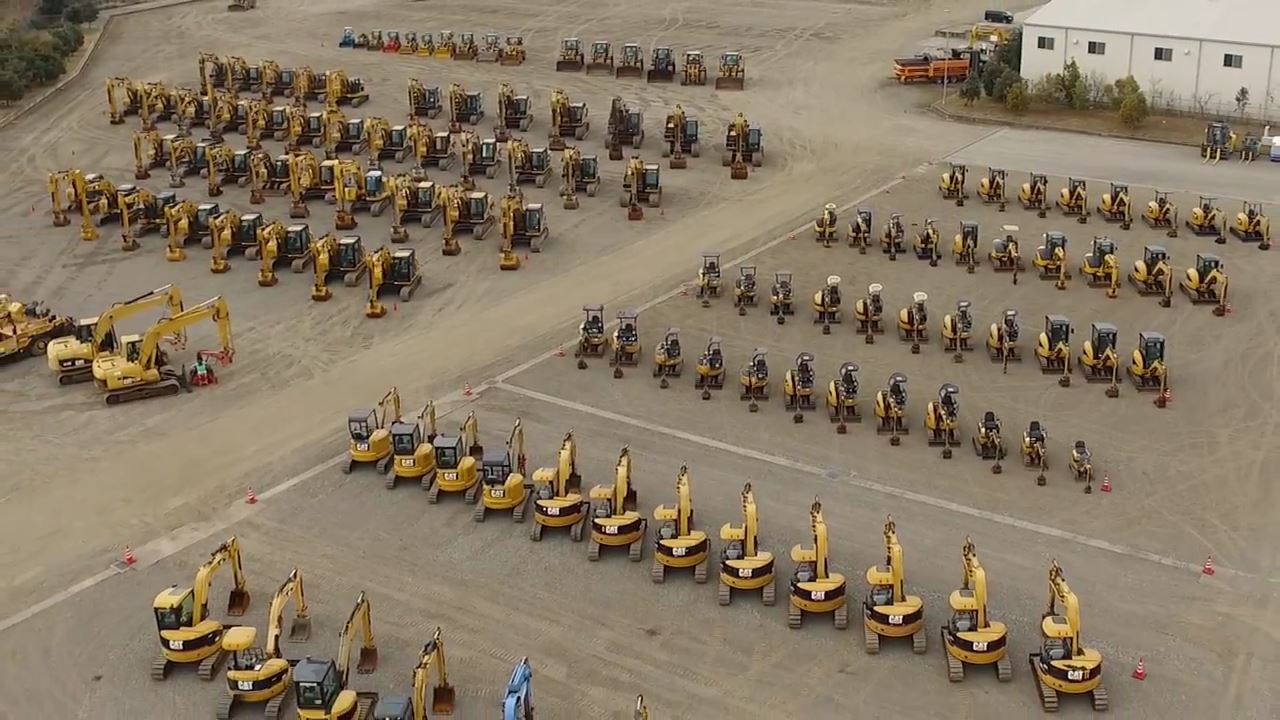con_eq: (123, 519, 242, 690), (90, 292, 254, 399), (40, 276, 183, 383), (1027, 553, 1120, 710), (217, 558, 303, 712), (297, 583, 378, 716), (944, 536, 1016, 685), (711, 476, 781, 610), (864, 513, 927, 655), (644, 459, 714, 584), (372, 611, 456, 714), (781, 500, 847, 629), (577, 444, 648, 561), (526, 432, 588, 538), (341, 370, 399, 477), (468, 422, 525, 520), (7, 289, 75, 363), (877, 44, 980, 92), (385, 393, 434, 493), (331, 160, 387, 239), (299, 227, 363, 296), (498, 191, 551, 273), (439, 177, 491, 260), (428, 412, 475, 502), (255, 223, 313, 289), (363, 249, 421, 314), (389, 179, 443, 247), (362, 114, 423, 172), (555, 146, 607, 212), (921, 378, 962, 461), (504, 137, 557, 201), (617, 154, 670, 215), (159, 197, 209, 261), (209, 204, 257, 270), (1130, 329, 1170, 408), (287, 155, 337, 218), (1079, 320, 1120, 395), (778, 351, 821, 421), (543, 90, 592, 151), (826, 361, 864, 438), (78, 175, 121, 243), (870, 373, 910, 446), (413, 123, 461, 183), (118, 182, 159, 251), (459, 130, 510, 185), (604, 99, 648, 162), (665, 108, 710, 169), (722, 119, 765, 180), (322, 104, 369, 159), (984, 218, 1025, 281), (156, 133, 201, 189), (206, 140, 248, 198), (491, 82, 532, 141), (690, 340, 729, 402), (736, 346, 771, 415), (1037, 314, 1072, 383), (612, 303, 642, 382), (251, 148, 291, 207), (447, 71, 484, 134), (971, 409, 1007, 473), (1125, 249, 1168, 302), (41, 161, 76, 226), (573, 304, 610, 365), (940, 297, 974, 360), (650, 329, 685, 390), (134, 75, 175, 127), (323, 65, 364, 117), (686, 255, 724, 311), (216, 53, 261, 100), (1146, 176, 1179, 240), (131, 124, 163, 189), (896, 291, 933, 347), (254, 57, 295, 107), (1020, 422, 1052, 485), (288, 102, 329, 151), (1081, 240, 1118, 293), (1180, 261, 1217, 314), (729, 262, 764, 318), (249, 100, 289, 149), (811, 274, 843, 334), (209, 93, 248, 142), (853, 282, 883, 345), (500, 656, 533, 713), (101, 69, 135, 124), (708, 48, 751, 90), (582, 26, 616, 78), (1056, 177, 1091, 226), (988, 307, 1016, 368), (1097, 181, 1130, 232), (812, 198, 841, 256), (193, 48, 227, 97), (1036, 230, 1069, 280), (1066, 440, 1094, 497), (979, 165, 1014, 210), (912, 215, 939, 272), (176, 86, 210, 131), (405, 77, 441, 119), (291, 62, 324, 107), (499, 29, 534, 71), (848, 201, 876, 253), (1187, 192, 1216, 242), (644, 48, 677, 91), (954, 222, 979, 278), (555, 36, 584, 81), (770, 272, 796, 322), (616, 38, 642, 88), (1020, 174, 1048, 216), (1197, 122, 1222, 168), (880, 211, 904, 258), (937, 167, 967, 203), (677, 49, 703, 89), (456, 30, 479, 66), (384, 25, 407, 56), (479, 33, 499, 65), (338, 25, 360, 52), (435, 32, 457, 58), (402, 28, 420, 58), (418, 31, 438, 57), (367, 29, 385, 56), (355, 29, 369, 49)
